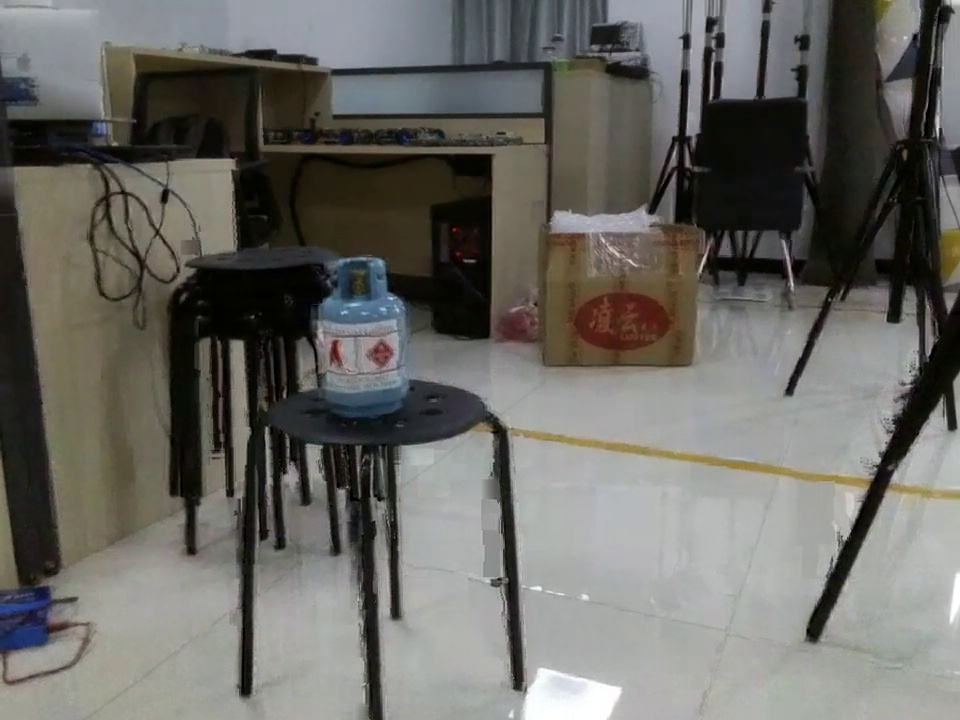gas tank: (315, 252, 416, 422)
